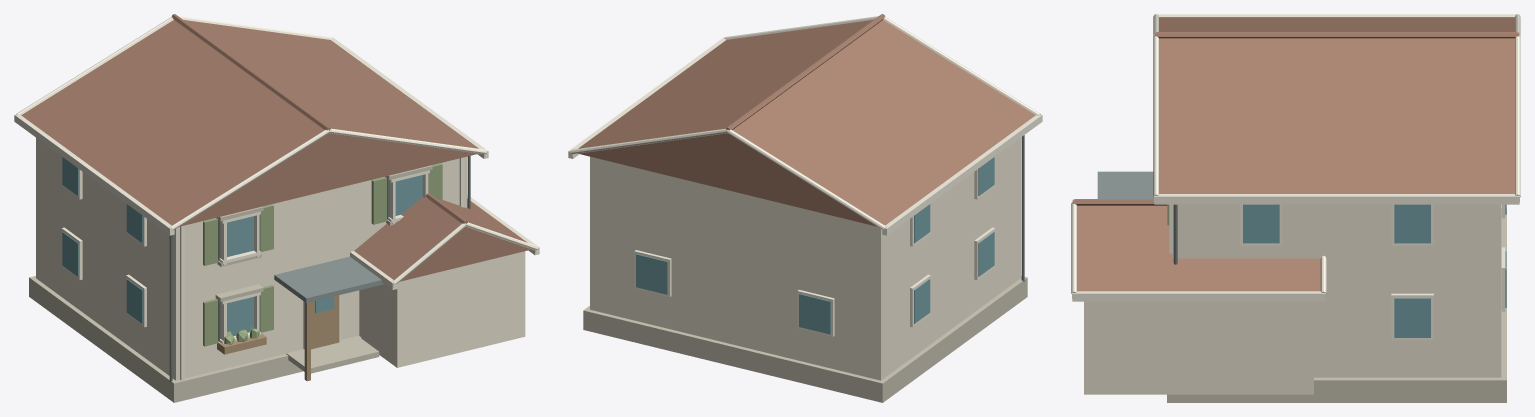
3 renders of one model, left to right at view 1: azimuth 30°, elevation 25°; view 2: azimuth 150°, elevation 25°; view 3: azimuth 270°, elevation 25°, orthographic. The views are drawn at different scales.
Bounding box in the file's own units: 11.72 × 8.12 × 11.62.
